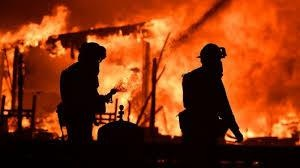fire: (94, 14, 186, 133), (0, 9, 69, 138), (231, 99, 300, 142)
